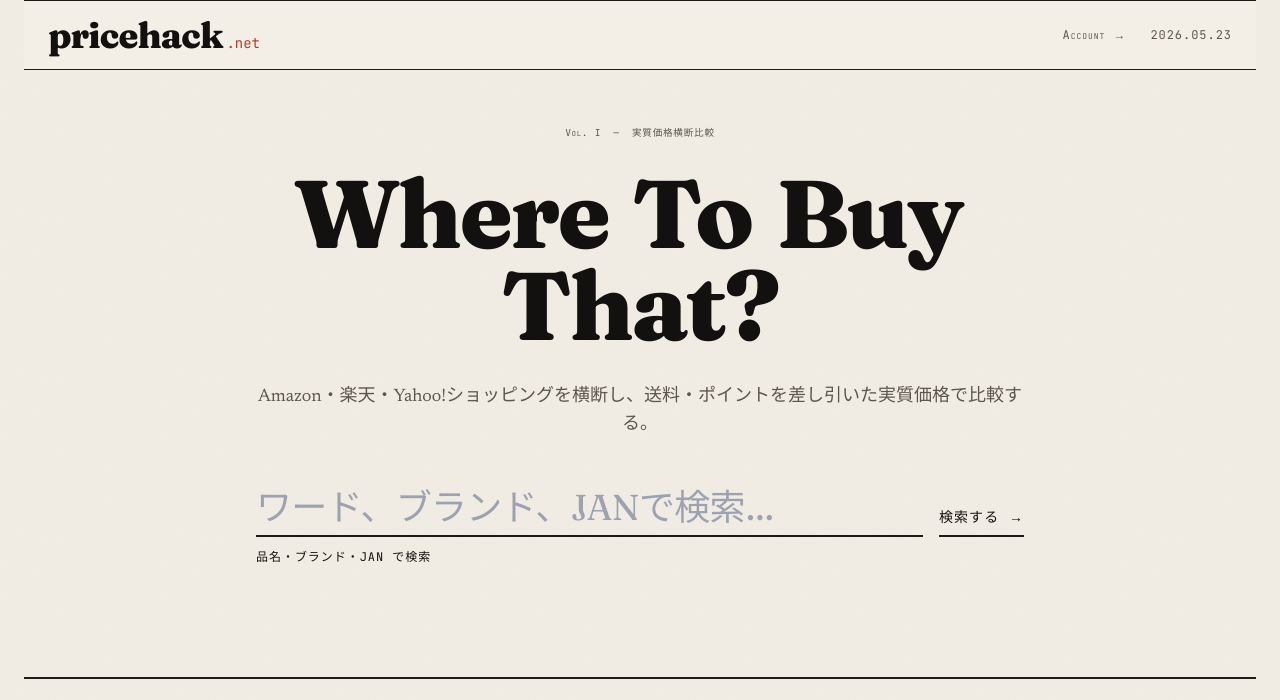
Test: HomePage（API 接続版・SWR 経由） › 検索 → fetch 失敗時: エラー画面とリトライボタンが表示され、結果セクションは描画されない
Type "イヤホン" into the search field at (589, 508), box [256,479,923,537]
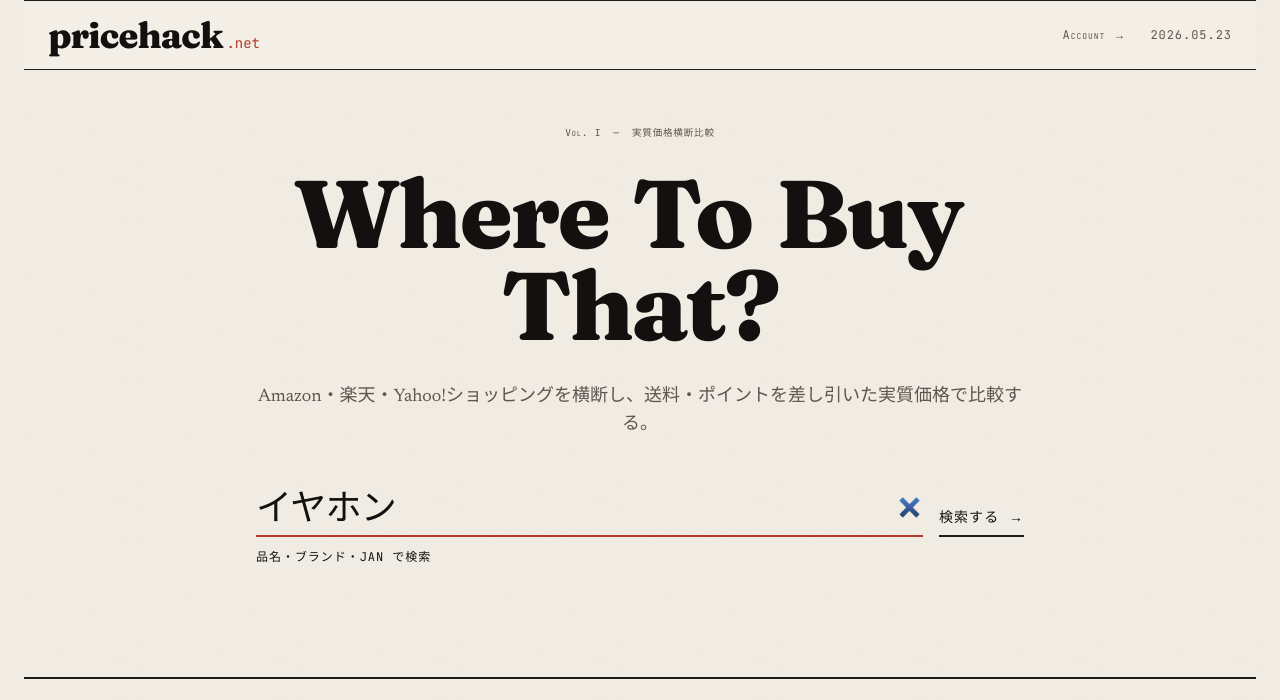
Click the button "検索する →" at (981, 518), box [939,499,1024,537]
(page scrolled)
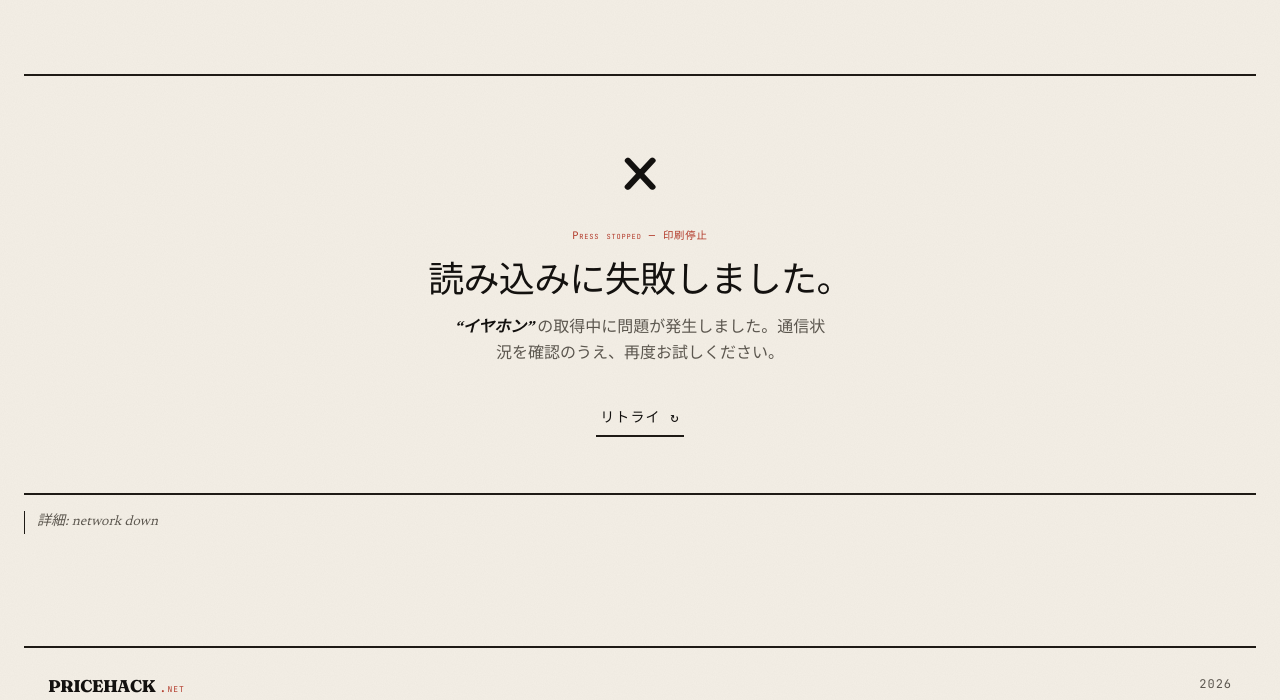
Now the button "リトライ ↻" is shown, box [596,399,684,437]
